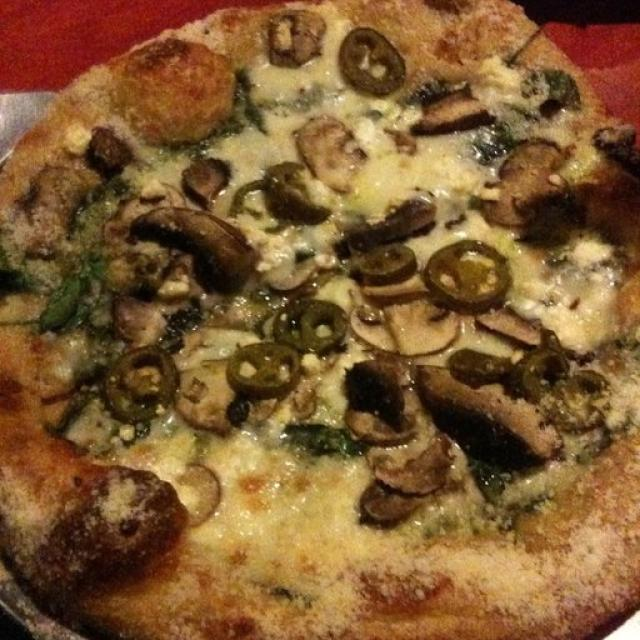Cheese: (229, 462, 351, 556), (385, 144, 457, 190)
Jalapenoes: (413, 224, 511, 314), (98, 342, 180, 426), (330, 25, 410, 102), (222, 330, 300, 408), (264, 290, 348, 348), (255, 157, 332, 220), (349, 230, 415, 292)
Mushrooms: (408, 360, 560, 478), (126, 200, 255, 288), (172, 352, 277, 447), (491, 146, 591, 232), (354, 446, 450, 520), (290, 115, 368, 198), (261, 5, 325, 69), (416, 81, 492, 134), (176, 149, 227, 207)
Pizza: (0, 0, 640, 640)
